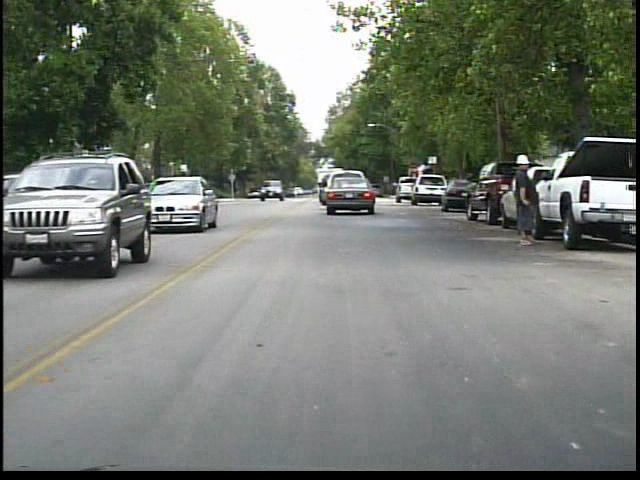person: (504, 149, 543, 249)
